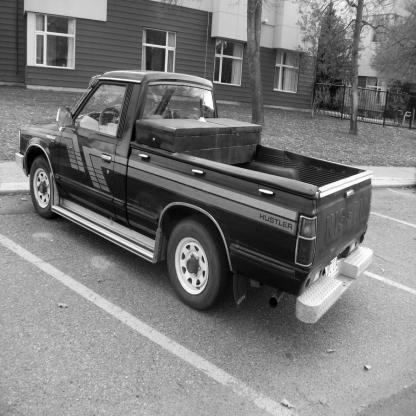truck: (30, 40, 396, 360)
